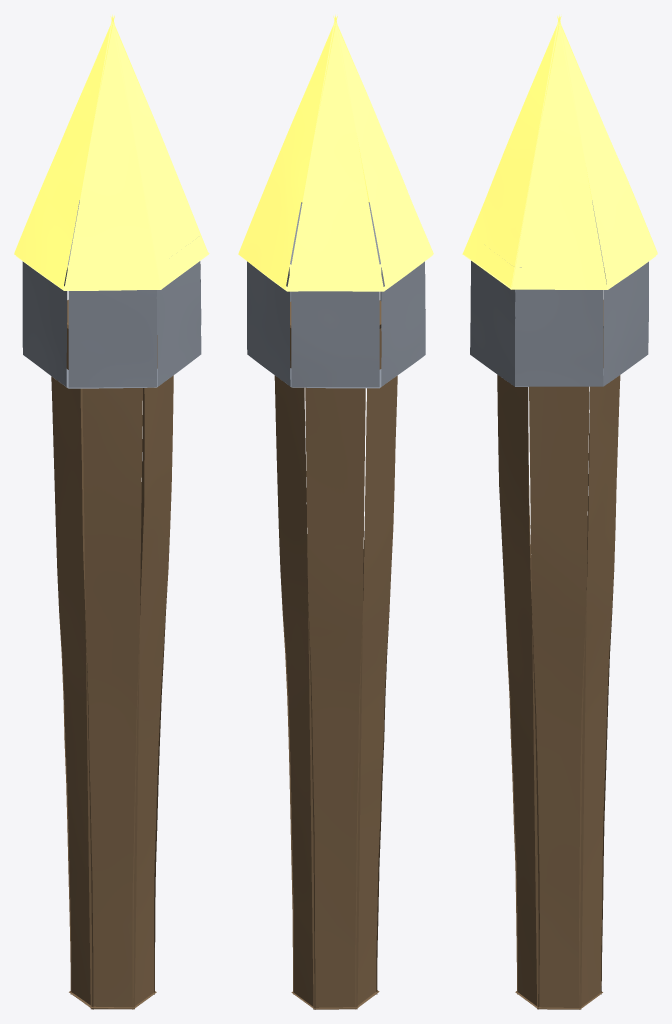
File: torch.glb
The picture shows the model from 3 angles, left to right: view 1: azimuth 30°, elevation 25°; view 2: azimuth 150°, elevation 25°; view 3: azimuth 270°, elevation 25°; orthographic projection.
Visible parts, largest first — view 1: TorchPost; view 2: TorchPost; view 3: TorchPost.
Part boxes in pixels (x1,y1,x2,y2): TorchPost: (14,14,209,1009); TorchPost: (238,14,433,1009); TorchPost: (462,14,657,1009).
Bounding box in the file's own units: 0.386 × 2.45 × 0.4435.
